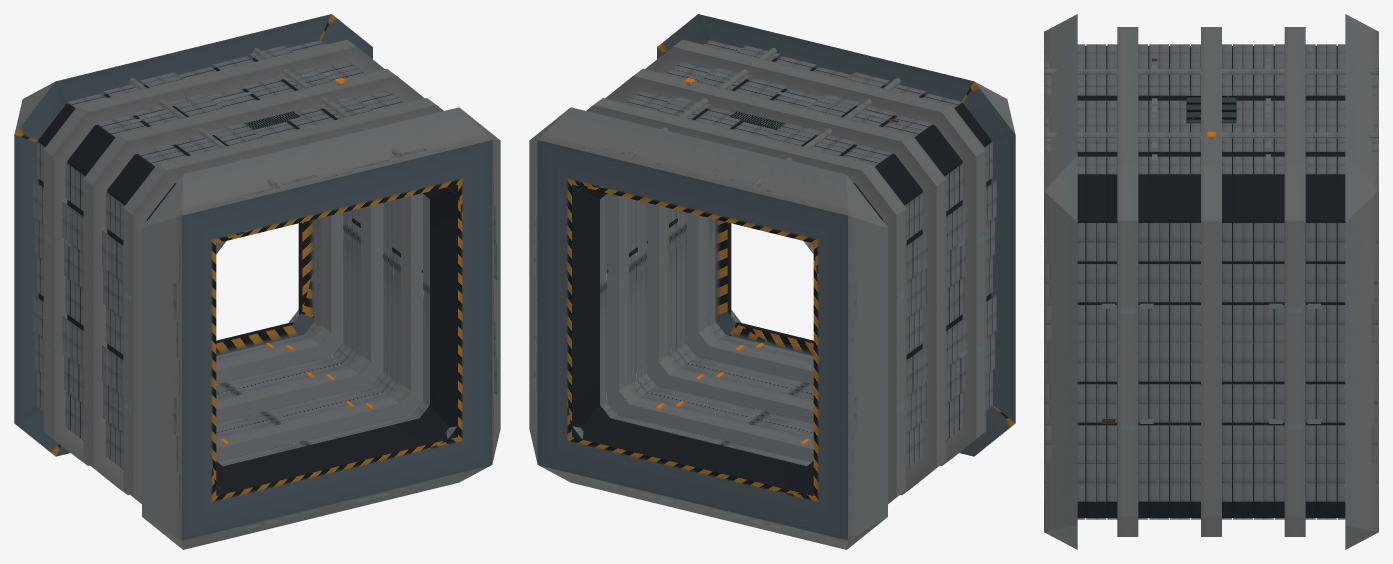
The model's file is kit_corridor.glb.
The picture shows the model from 3 angles, left to right: view 1: azimuth 30°, elevation 25°; view 2: azimuth 150°, elevation 25°; view 3: azimuth 270°, elevation 25°; orthographic projection. The views are drawn at different scales.
Parts seen in each view (by area): view 1: lod0; view 2: lod0; view 3: lod0.
Part boxes in pixels (x1,y1,x2,y2): lod0: (14,14,500,549); lod0: (529,14,1015,549); lod0: (1044,14,1378,549).
Size of what is drawn, in the model's own units: 104 by 104 by 80.01.
Materials: 1 (1 with a texture image).
